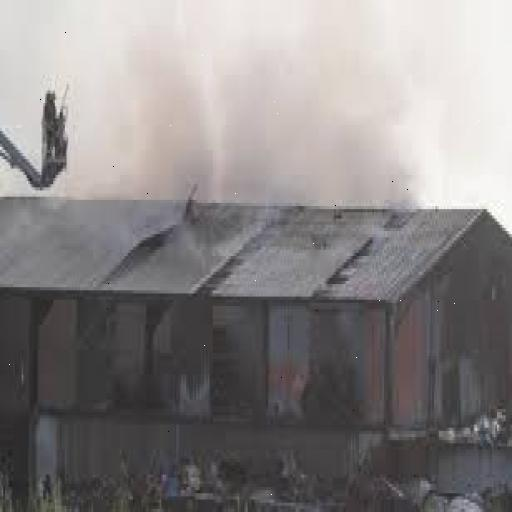smoke: (145, 3, 472, 216)
